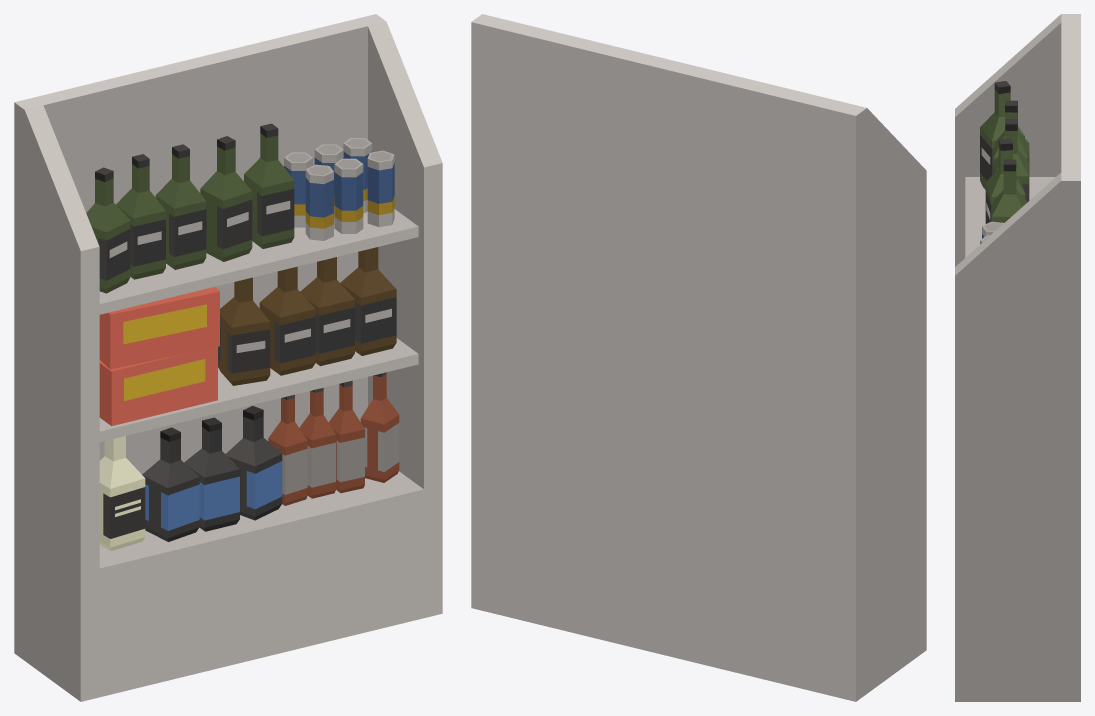
The model's file is DrinkShelf2.glb.
The picture shows the model from 3 angles, left to right: view 1: azimuth 30°, elevation 25°; view 2: azimuth 150°, elevation 25°; view 3: azimuth 270°, elevation 25°; orthographic projection. The views are drawn at different scales.
Parts seen in each view (by area): view 1: SI_Prop_AlcoholShelf_02; view 2: SI_Prop_AlcoholShelf_02; view 3: SI_Prop_AlcoholShelf_02.
Boxes of the visible parts, bbox=[...] form: SI_Prop_AlcoholShelf_02: bbox=[14, 14, 442, 701]; SI_Prop_AlcoholShelf_02: bbox=[471, 14, 926, 701]; SI_Prop_AlcoholShelf_02: bbox=[955, 14, 1080, 701].
Bounding box in the file's own units: 0.0226 × 0.0329 × 0.0072.
1 material, 1 textured.
